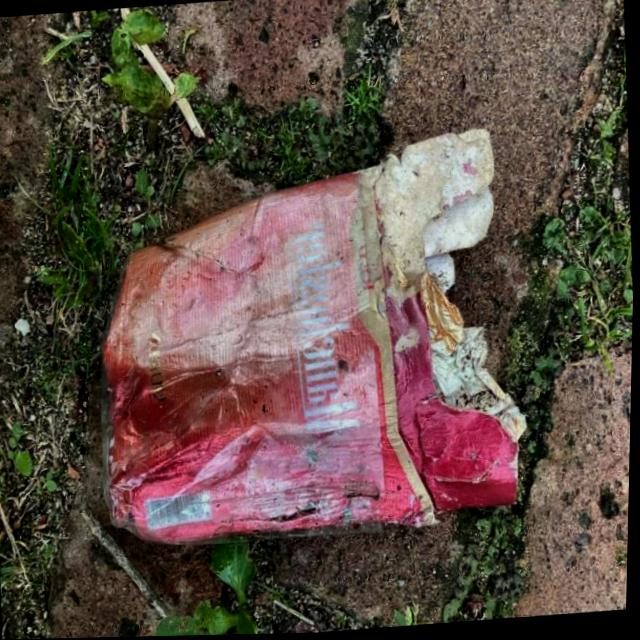Paper: (78, 118, 544, 556)
